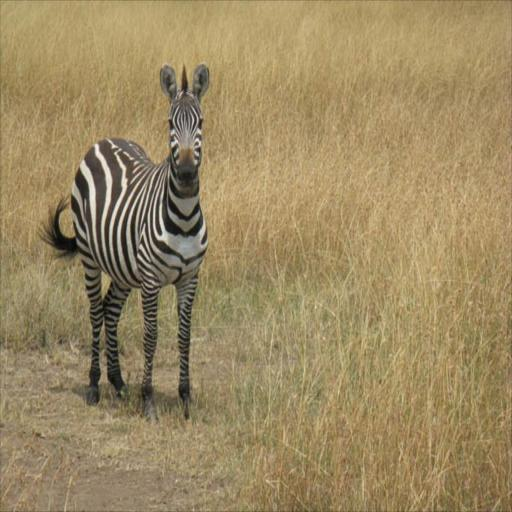Zebra: (35, 62, 208, 424)
